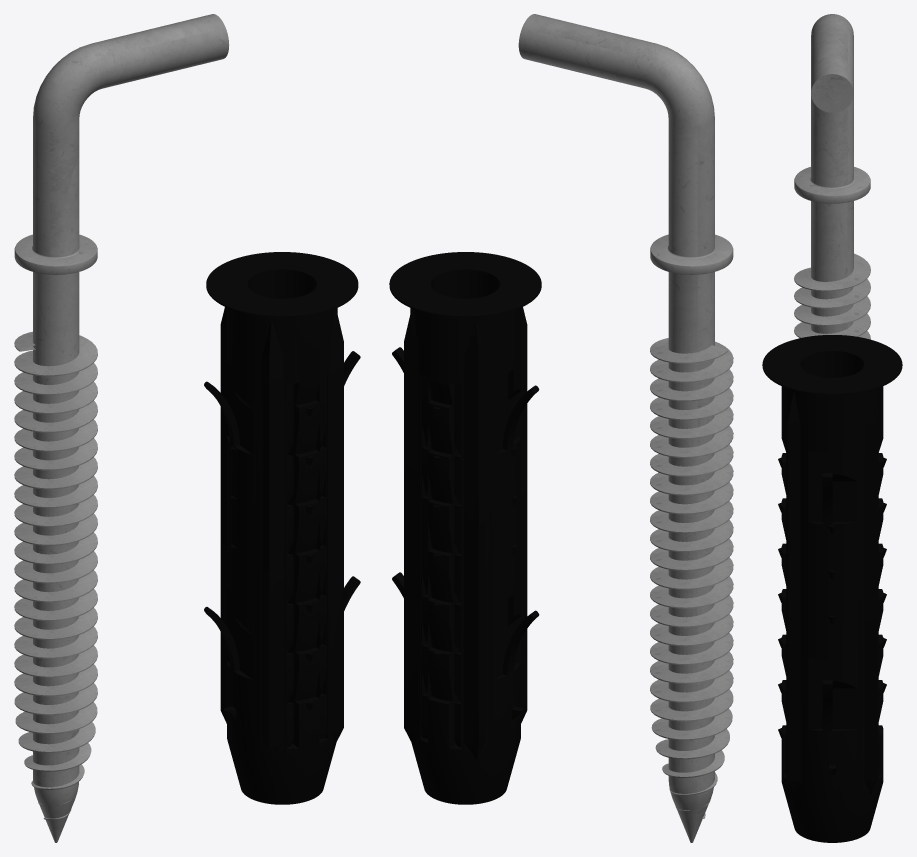
Rendered from KAXN_HP.glb.
The picture shows the model from 3 angles, left to right: view 1: azimuth 30°, elevation 25°; view 2: azimuth 150°, elevation 25°; view 3: azimuth 270°, elevation 25°; orthographic projection. The views are drawn at different scales.
Parts seen in each view (by area): view 1: AXN.002, SCREW_HP; view 2: AXN.002, SCREW_HP; view 3: AXN.002, SCREW_HP.
Part boxes in pixels (bbox=[...]): AXN.002: bbox=[204, 252, 360, 804]; SCREW_HP: bbox=[14, 14, 229, 842]; AXN.002: bbox=[389, 252, 541, 804]; SCREW_HP: bbox=[518, 14, 733, 842]; AXN.002: bbox=[762, 335, 902, 842]; SCREW_HP: bbox=[794, 14, 870, 339].
Bounding box in the file's own units: 0.028 × 0.0627 × 0.011.
Materials: 2 (2 with a texture image).
